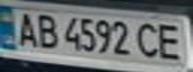2: (109, 17, 136, 57)
4: (60, 14, 81, 52)
5: (78, 15, 96, 53)
9: (93, 16, 115, 54)
A: (12, 9, 39, 48)
B: (33, 11, 60, 51)
C: (133, 20, 163, 60)
E: (154, 20, 190, 63)
